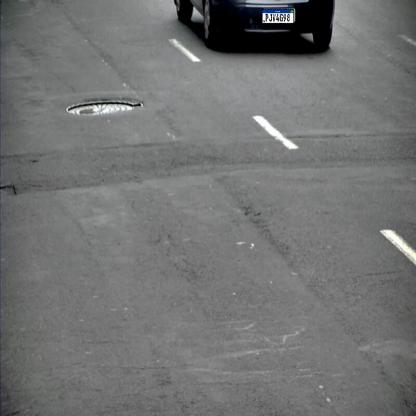PlacaM: (262, 9, 294, 24)
